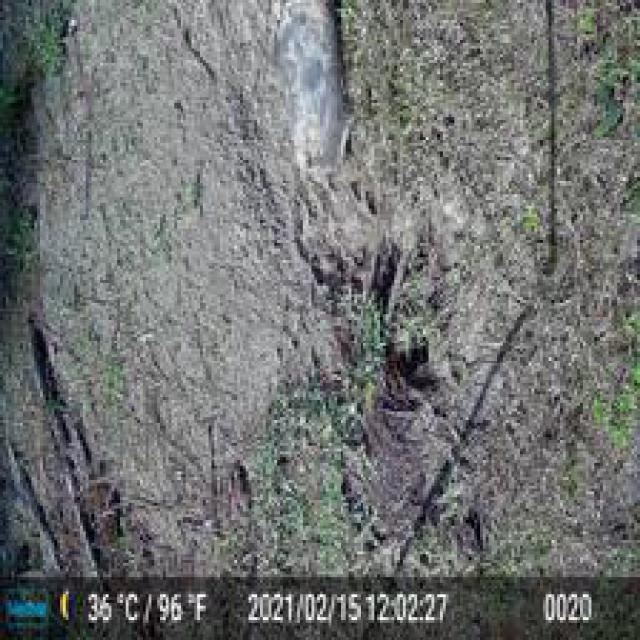tortoise: (266, 0, 354, 180)
